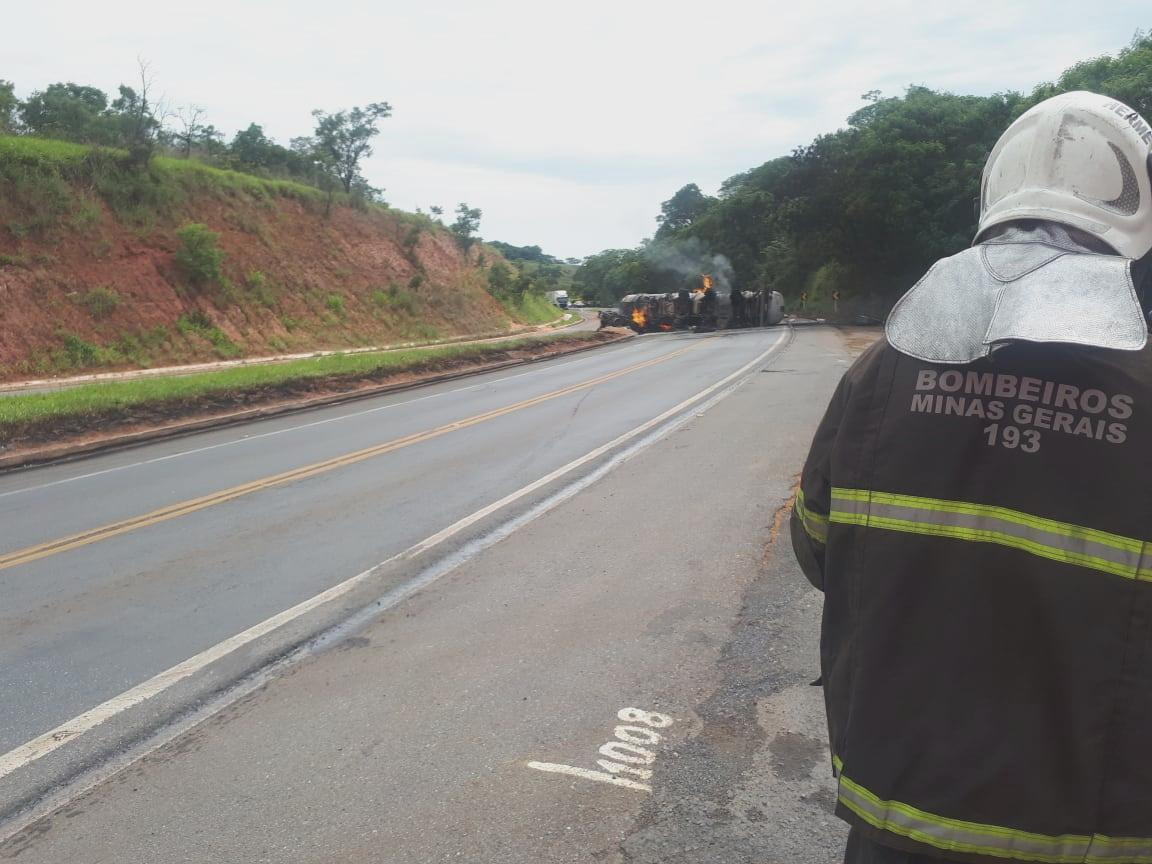Fire: (628, 308, 649, 331), (701, 274, 714, 289)
